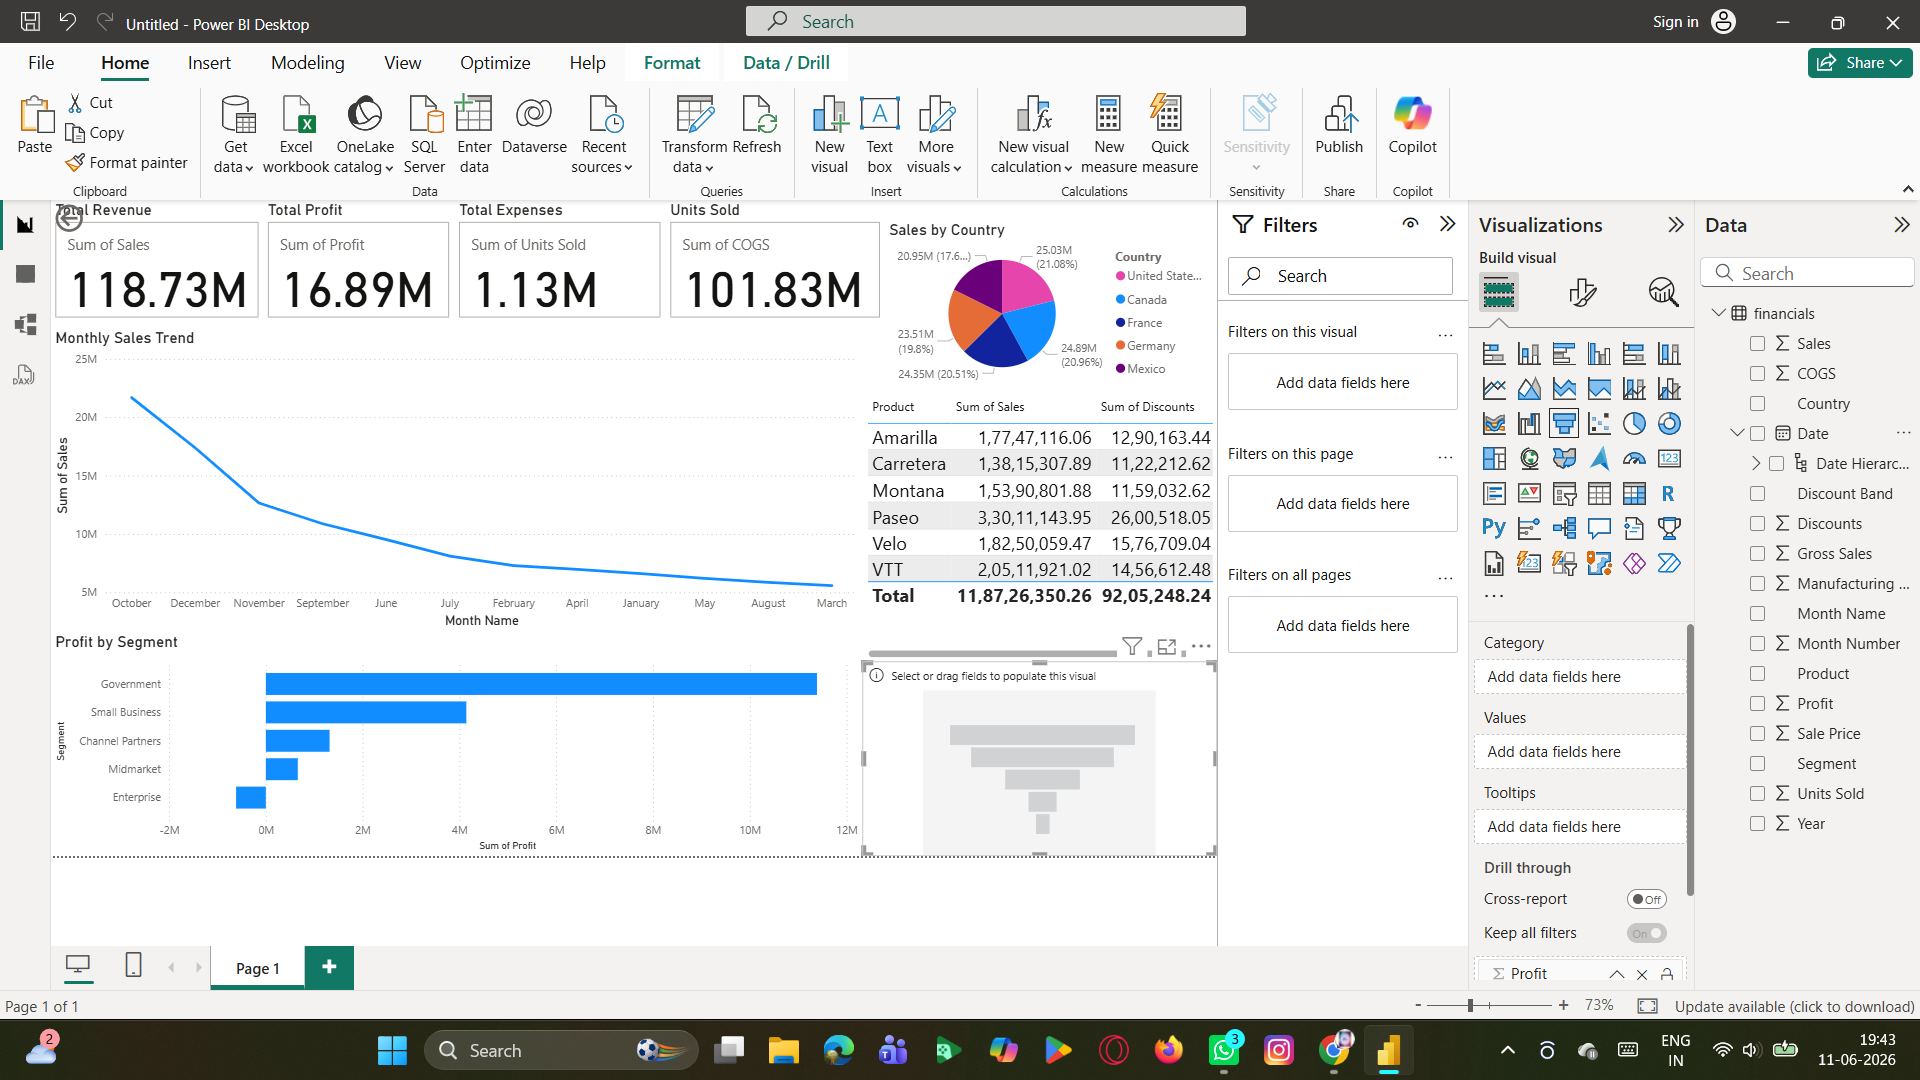

The dashboard page shown, as its layout file describes it:
{"tool":"powerbi","page":{"name":"Page 1","canvas":[1280,720],"ordinal":0},"visuals":[{"type":"card","title":"Total Sales","fields":{"Values":["Sum(financials. Sales)"]},"box":[0,92.9,243.3,132.1],"z":0},{"type":"card","title":"Units Sold","fields":{"Values":["Sum(financials.Units Sold)"]},"box":[508.7,106.4,261.7,118.6],"z":1},{"type":"card","title":"Gross Sales","fields":{"Values":["Sum(financials.Gross Sales)"]},"box":[792.4,106.4,217.7,118.6],"z":2},{"type":"card","title":"Total Profit","fields":{"Values":["Sum(financials.Profit)"]},"box":[243.3,106.4,236,118.6],"z":3},{"type":"clusteredBarChart","title":"Sales by Product","fields":{"Category":["financials.Product"],"Y":["Sum(financials. Sales)"]},"box":[0,247,598,225],"z":4},{"type":"pieChart","title":"Country-wise Sales","fields":{"Category":["financials.Country"],"Y":["Sum(financials. Sales)"]},"box":[609,247,516,225],"z":5},{"type":"lineChart","title":"Monthly Sales Trend","fields":{"Y":["Sum(financials. Sales)"],"Category":["financials.Month Name","financials.Month Number"]},"box":[0,479.4,752,240.9],"z":6},{"type":"clusteredColumnChart","title":"Profit by Segment","fields":{"Category":["financials.Segment"],"Y":["Sum(financials.Profit)"]},"box":[775.3,479.4,505,240.9],"z":7},{"type":"slicer","fields":{"Values":["financials.Year"]},"box":[1033.3,106.4,247,118.6],"z":8},{"type":"slicer","fields":{"Values":["financials.Country"]},"box":[1125,284.9,138.2,149.2],"z":9},{"type":"textbox","box":[0,0,1280.3,92.9],"z":10}]}

Visuals, with their boxes on the page's 1280x720 design canvas (x1, y1, x2, y2). These are canvas units, not pixel positions in the 1920x1080 screenshot, which may show the page scaled, cropped or inside an application window:
"Total Sales" card: <region>0, 93, 243, 225</region>
"Units Sold" card: <region>509, 106, 770, 225</region>
"Gross Sales" card: <region>792, 106, 1010, 225</region>
"Total Profit" card: <region>243, 106, 479, 225</region>
"Sales by Product" clusteredBarChart: <region>0, 247, 598, 472</region>
"Country-wise Sales" pieChart: <region>609, 247, 1125, 472</region>
"Monthly Sales Trend" lineChart: <region>0, 479, 752, 720</region>
"Profit by Segment" clusteredColumnChart: <region>775, 479, 1280, 720</region>
slicer - financials.Year: <region>1033, 106, 1280, 225</region>
slicer - financials.Country: <region>1125, 285, 1263, 434</region>
textbox: <region>0, 0, 1280, 93</region>
